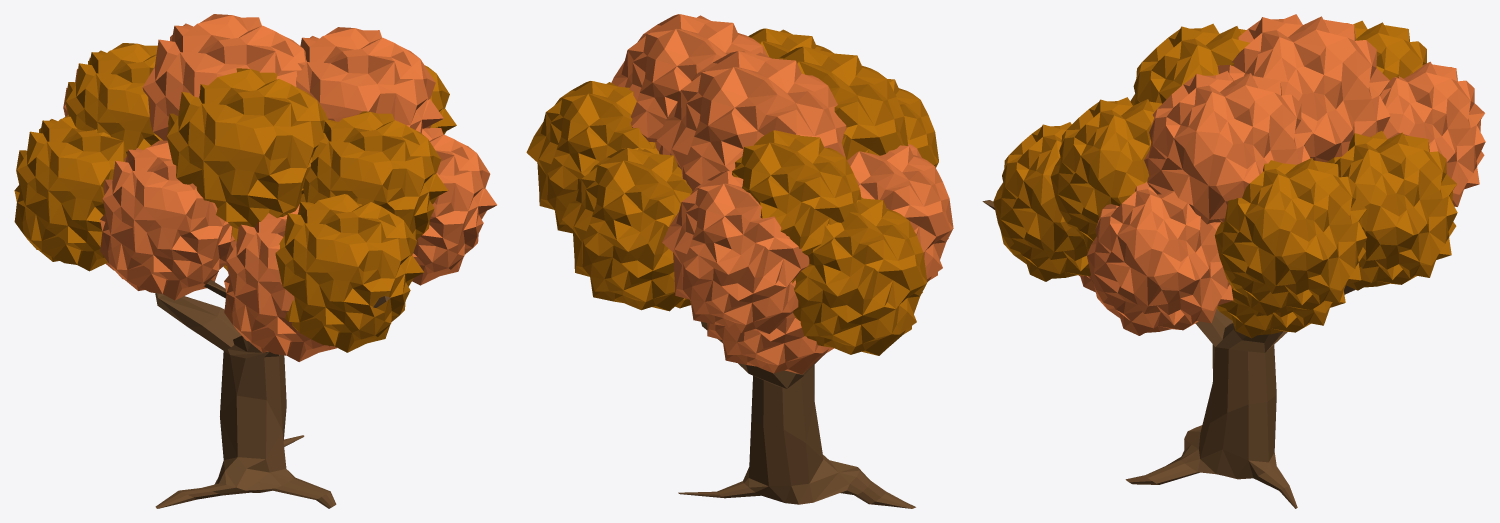
The model's file is Tree3.fbx.
3 views of the same model, side by side, from view 1: azimuth 30°, elevation 25°; view 2: azimuth 150°, elevation 25°; view 3: azimuth 270°, elevation 25° (orthographic). The views are drawn at different scales.
Parts seen in each view (by area): view 1: LowPoly Tree .021; view 2: LowPoly Tree .021; view 3: LowPoly Tree .021.
Boxes of the visible parts, <box> form: LowPoly Tree .021: <box>14,14,496,508</box>; LowPoly Tree .021: <box>526,14,953,508</box>; LowPoly Tree .021: <box>982,14,1485,508</box>.
Size of the model in its own units: 227 by 237 by 241.
